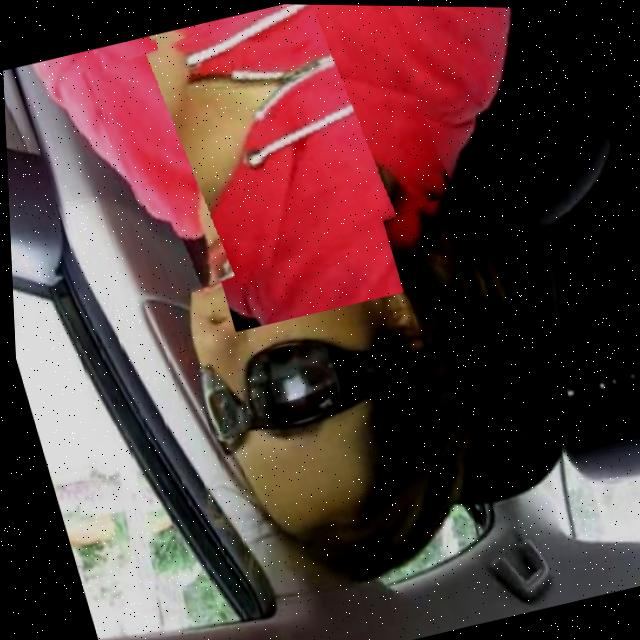no-seatbelt: (79, 1, 457, 296)
